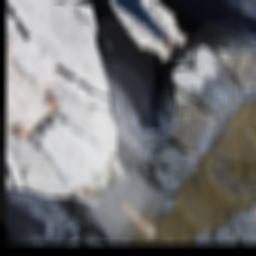Crow: (25, 0, 245, 203)
